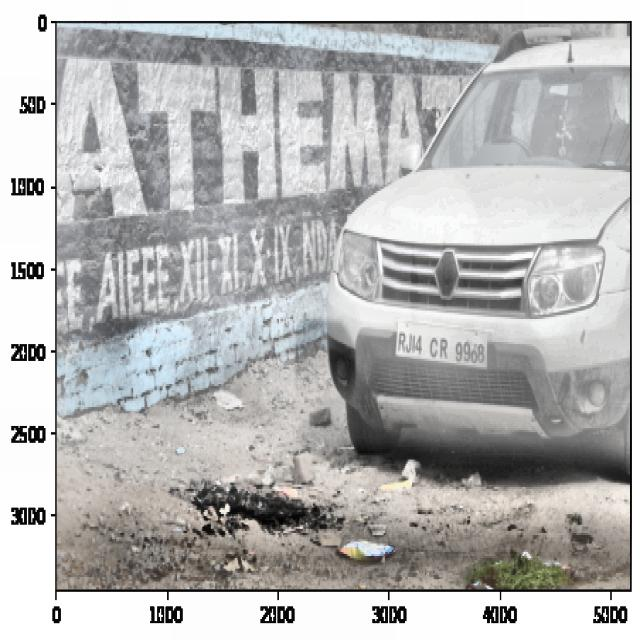license_plate: (396, 325, 489, 372)
